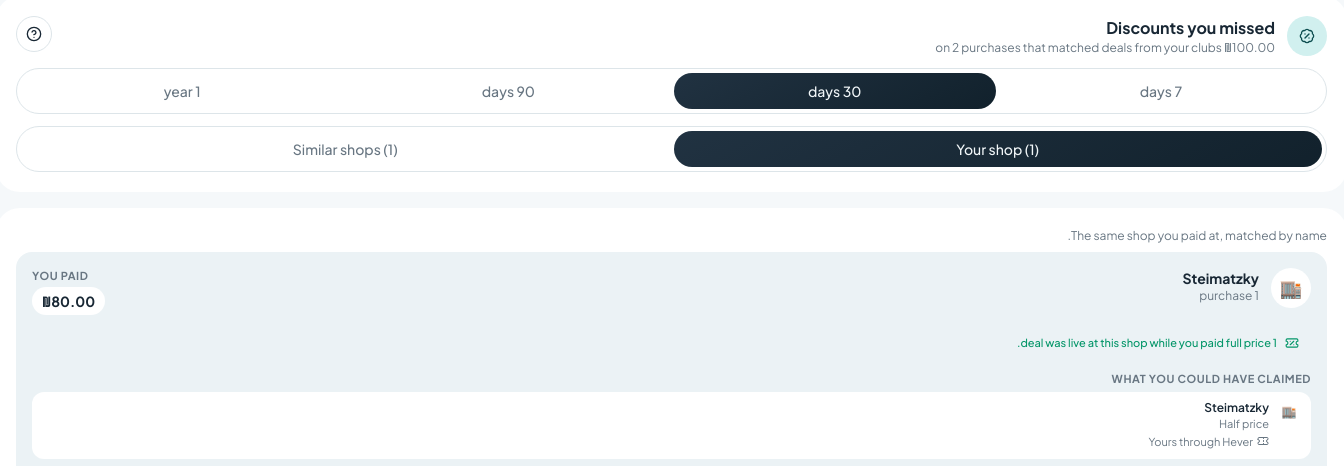
Test: MissedShopsSlide › opens on the first band and switches on click
The width and height of the screenshot is (1344, 466).
Expected: the text "The same shop you paid at, matched by name." is shown, [1068, 228, 1327, 243]
Click the button "Similar shops (1)".
click(345, 149)  # box [21, 131, 670, 167]
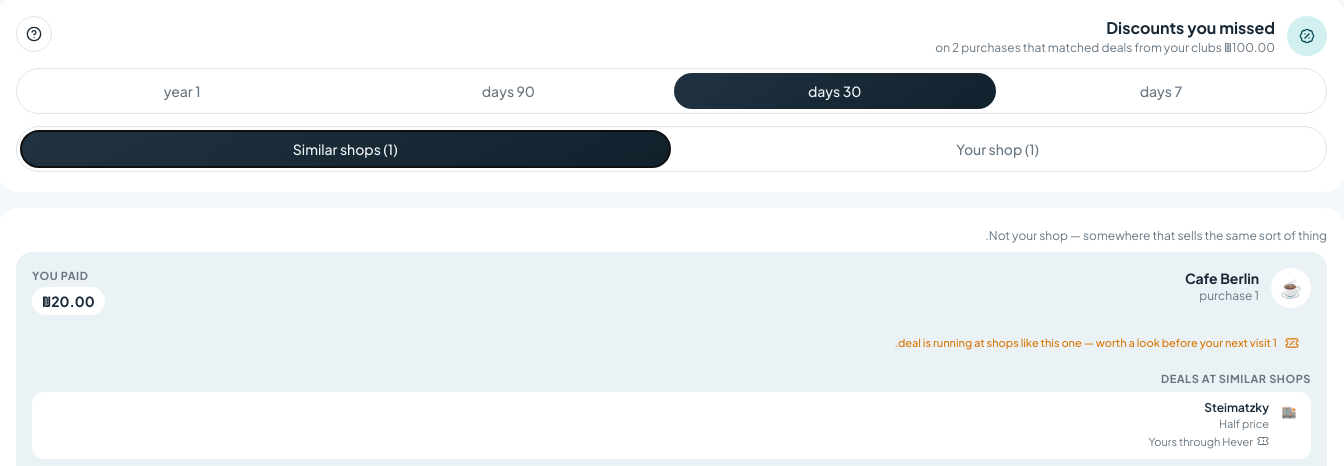
Expected: the text "Cafe Berlin" is shown, [1185, 269, 1259, 287]
Expected: the text "Not your shop — somewhere that sells the same sort of thing." is shown, [985, 228, 1327, 243]
